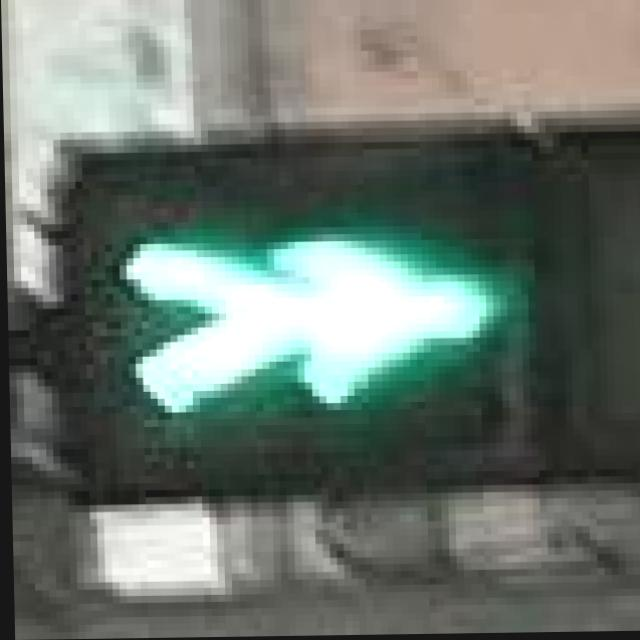green_light: (116, 176, 550, 477)
